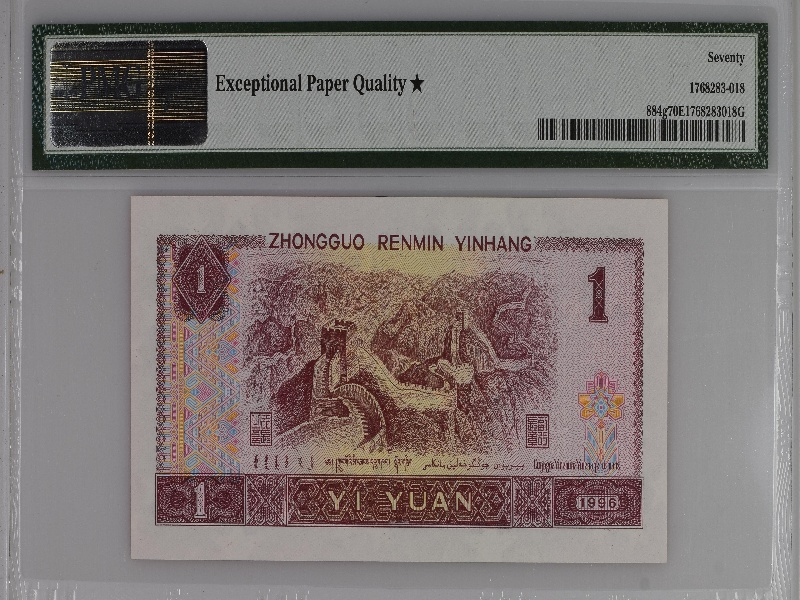papernote: (127, 189, 669, 564)
